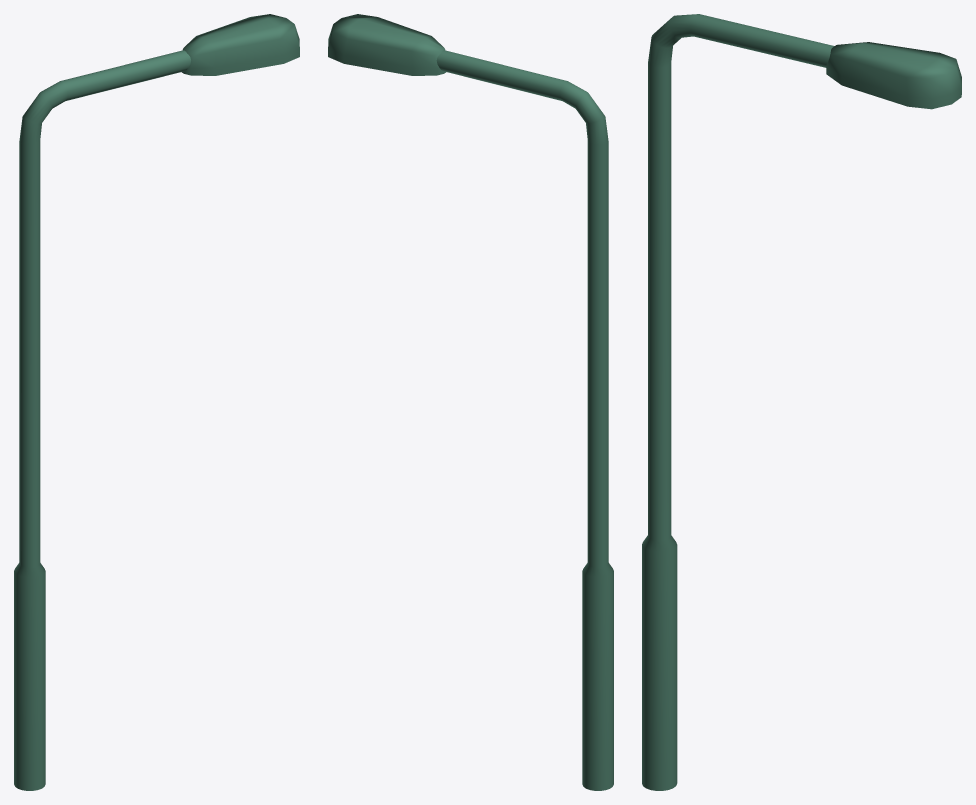
File: street light.glb
The picture shows the model from 3 angles, left to right: view 1: azimuth 30°, elevation 25°; view 2: azimuth 150°, elevation 25°; view 3: azimuth 330°, elevation 25°; orthographic projection. The views are drawn at different scales.
Parts seen in each view (by area): view 1: street light; view 2: street light; view 3: street light.
Part boxes in pixels (x1,y1,x2,y2): street light: (14, 14, 299, 790); street light: (328, 14, 613, 790); street light: (642, 14, 961, 790).
Size of the model in its own units: 1.27 by 3.06 by 0.2582.
1 material, 1 textured.
